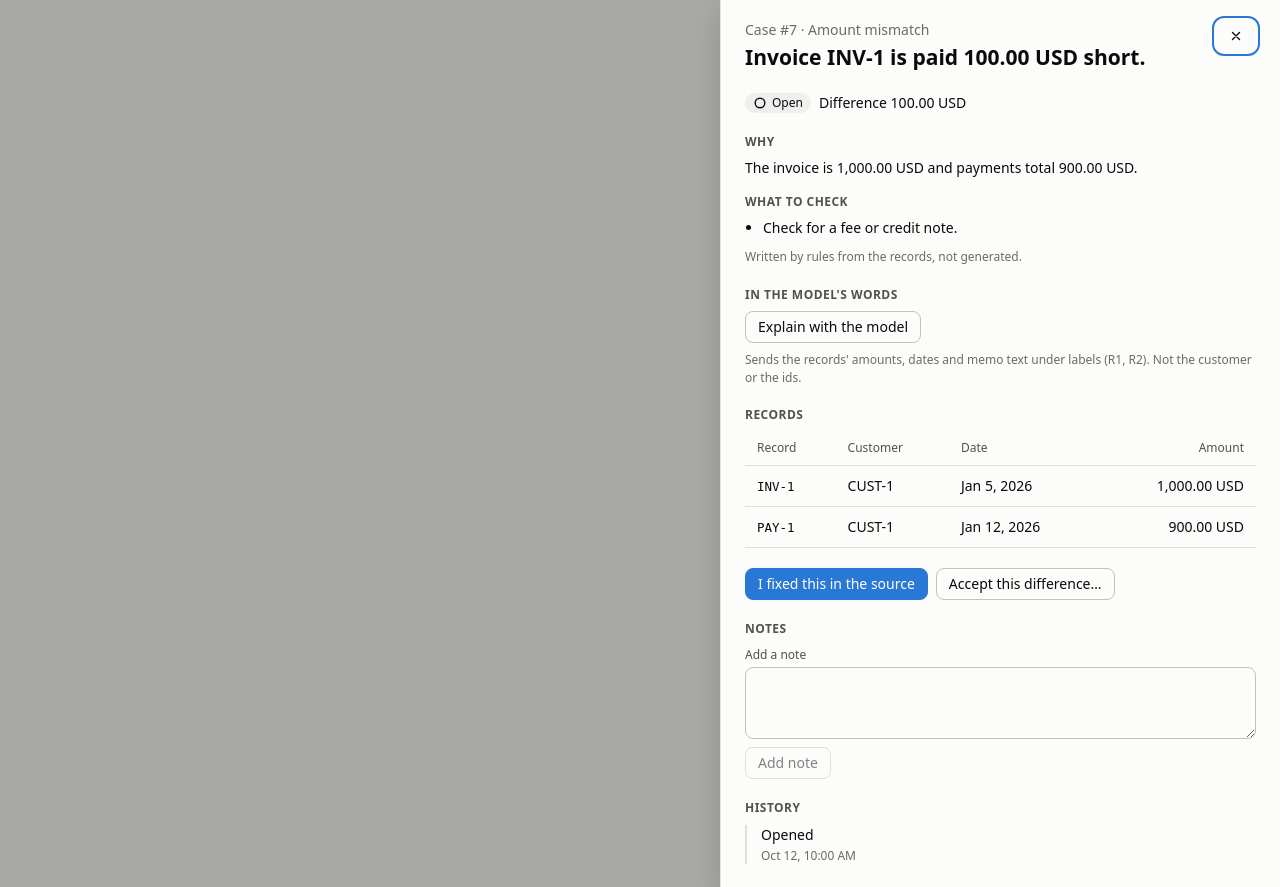
ExplanationSection › says why a text was not used and leaves the button to try again
This screenshot has width=1280, height=887.
Click the button "Explain with the model" at (833, 327), box [745, 311, 921, 343]
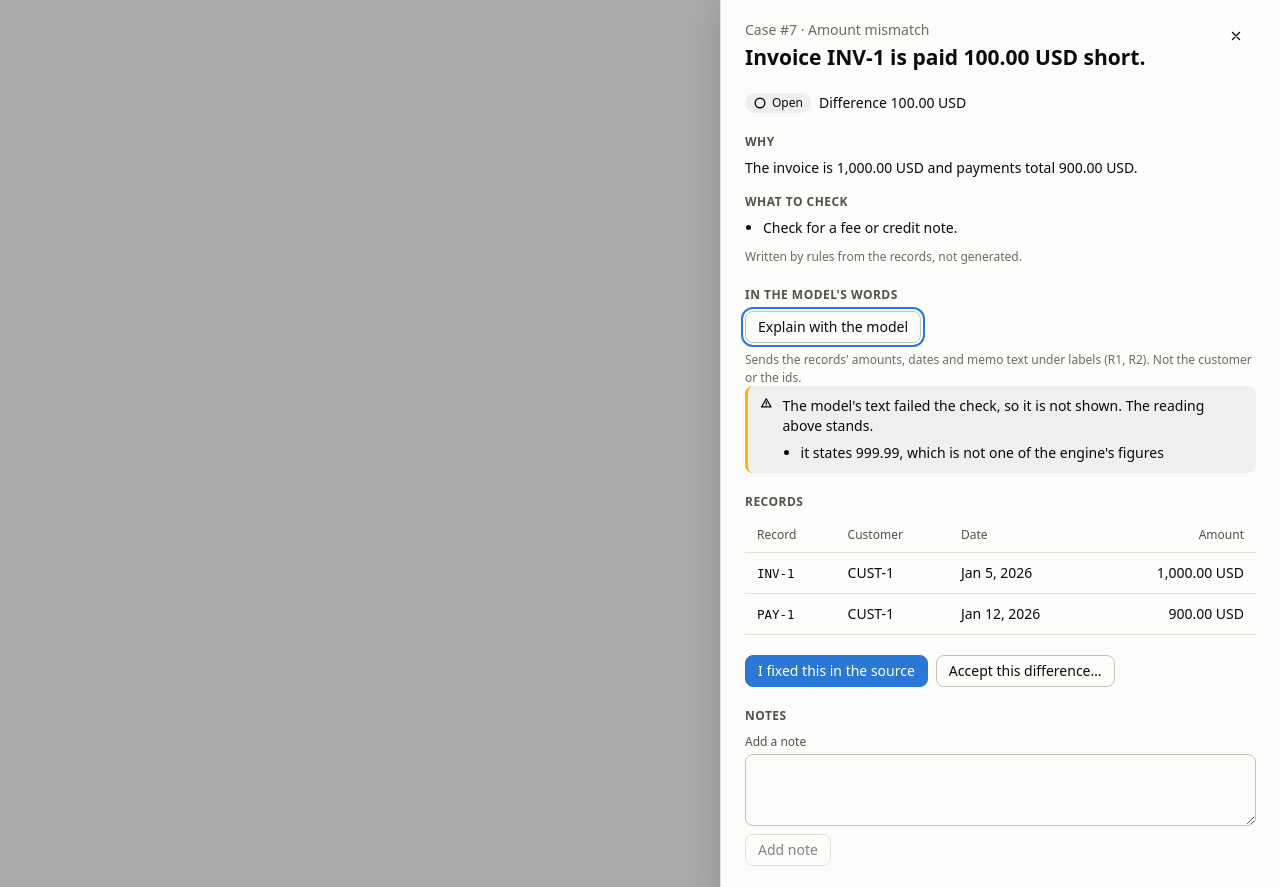
expect the text "The invoice is 1,000.00 USD and payments total 900.00 USD." is shown: met, box [745, 158, 1138, 177]
expect the text "failed the check, so it is not shown" is shown: met, box [782, 396, 1204, 435]
expect the list item "it states 999.99, which is not one of the engine's figures" is shown: met, box [800, 443, 1164, 462]
